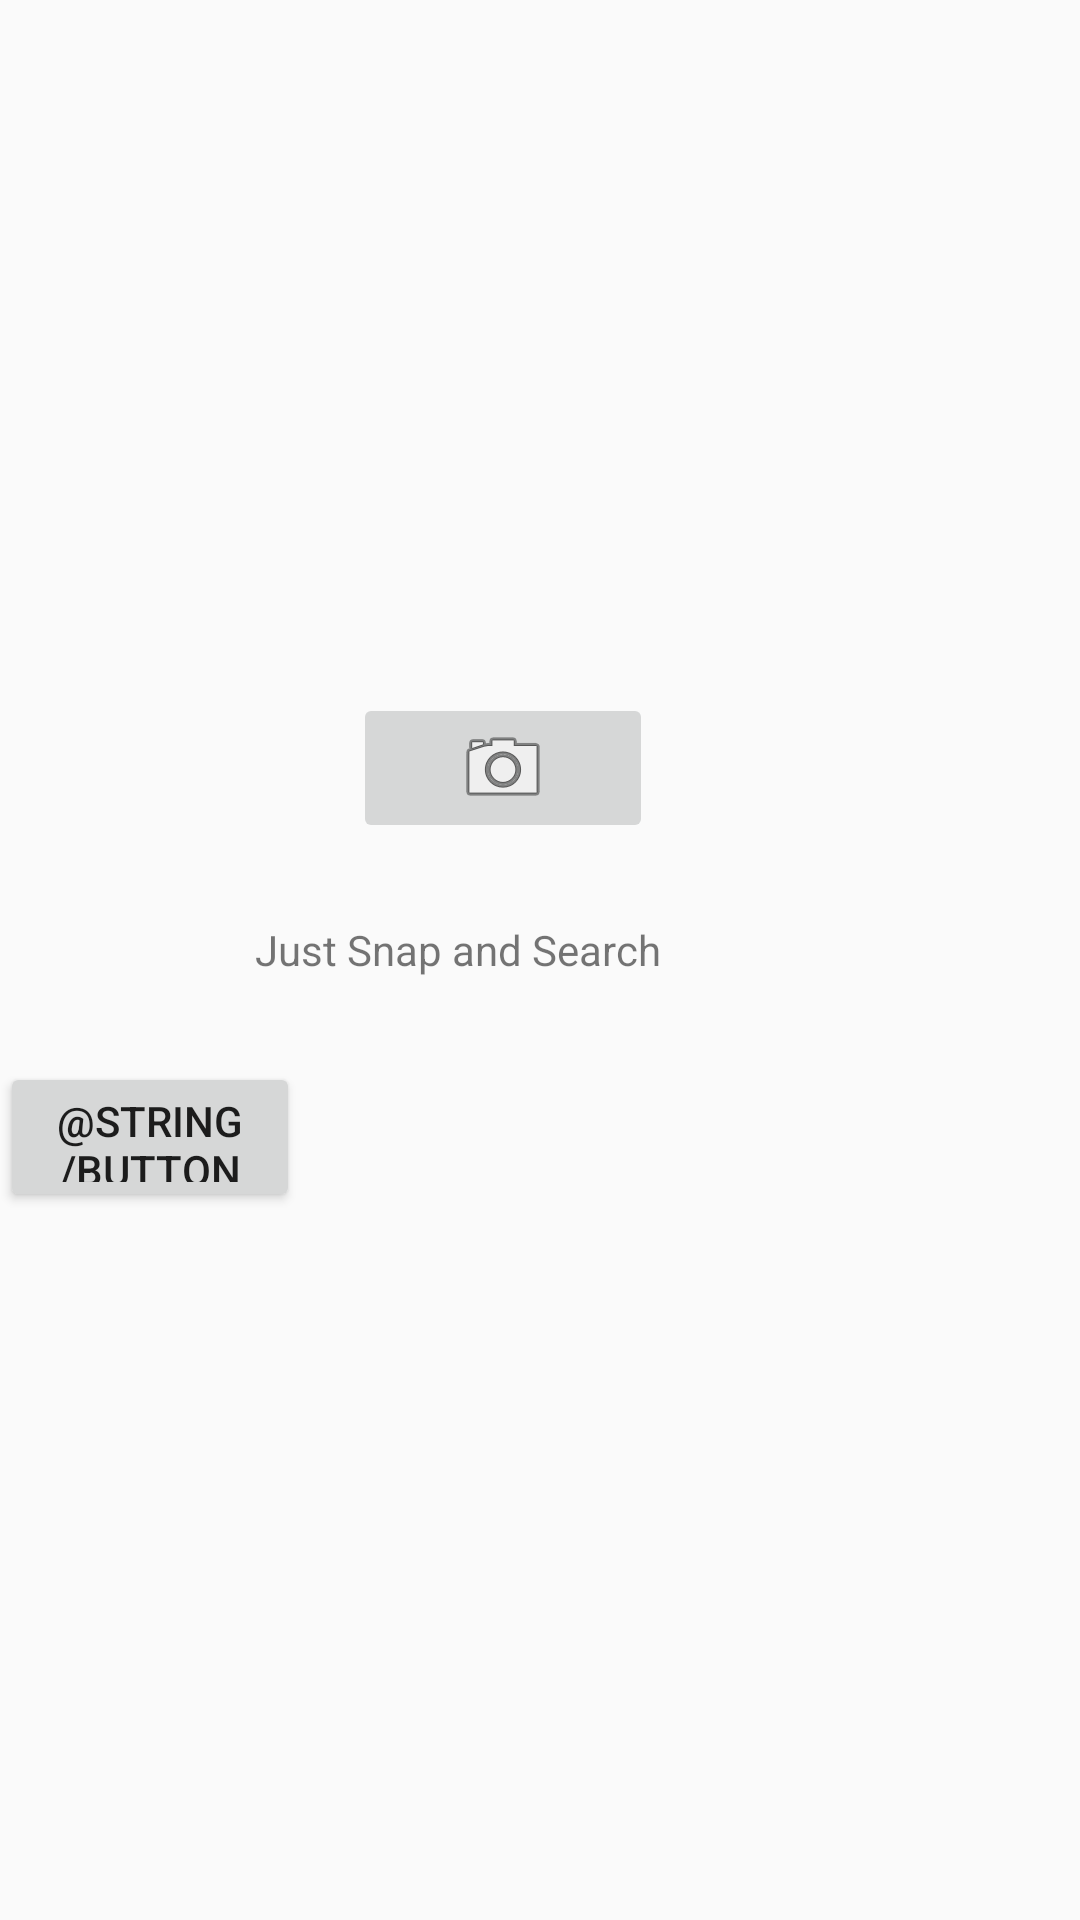

Icon bounding boxes for this 1080x1920 phone screenshot, format box=[x1, y1, x2, y2]:
camera: box=[365, 711, 641, 825]
